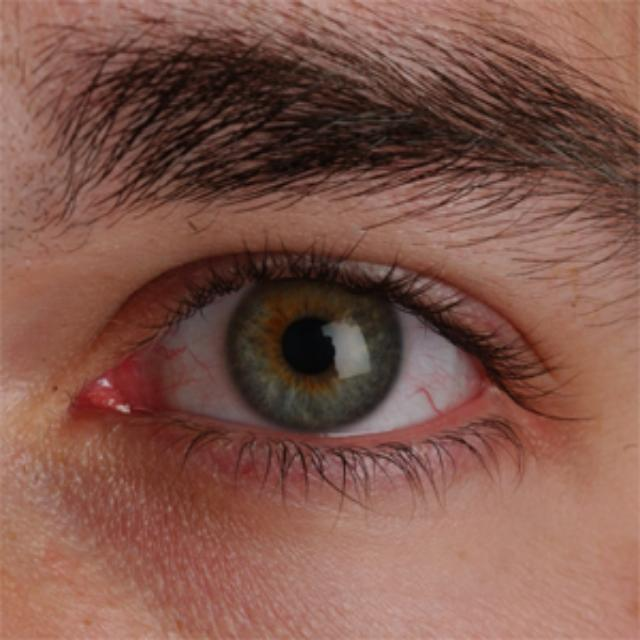eye: (213, 270, 411, 436)
